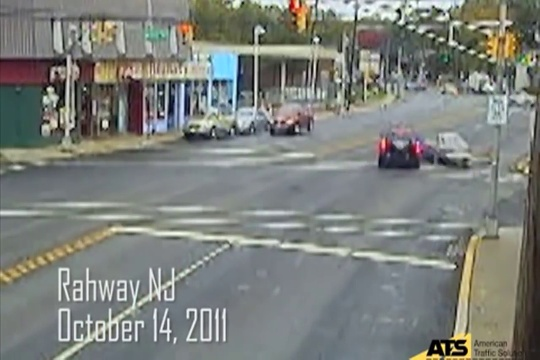car: (374, 128, 429, 171), (267, 101, 319, 138), (427, 133, 473, 165), (185, 112, 229, 141), (234, 107, 264, 128)
